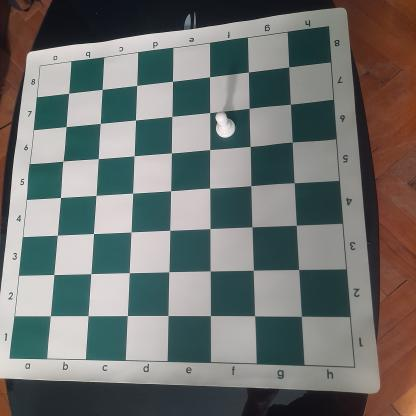white-pawn: (213, 111, 239, 139)
